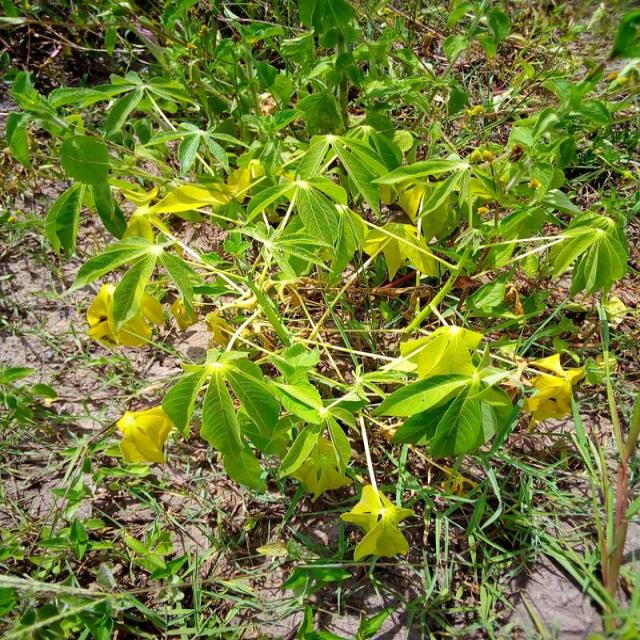cassava leaf: (373, 323, 515, 459), (160, 346, 282, 492), (339, 483, 414, 562), (115, 404, 174, 466)
